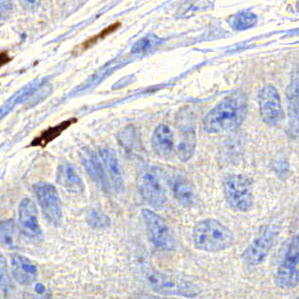Lymphocyte: (28, 117, 79, 146)
